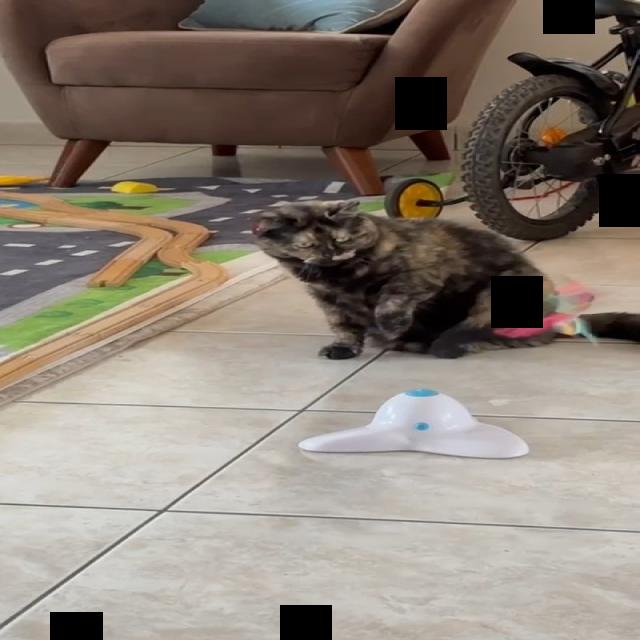authorized: (251, 198, 638, 360)
